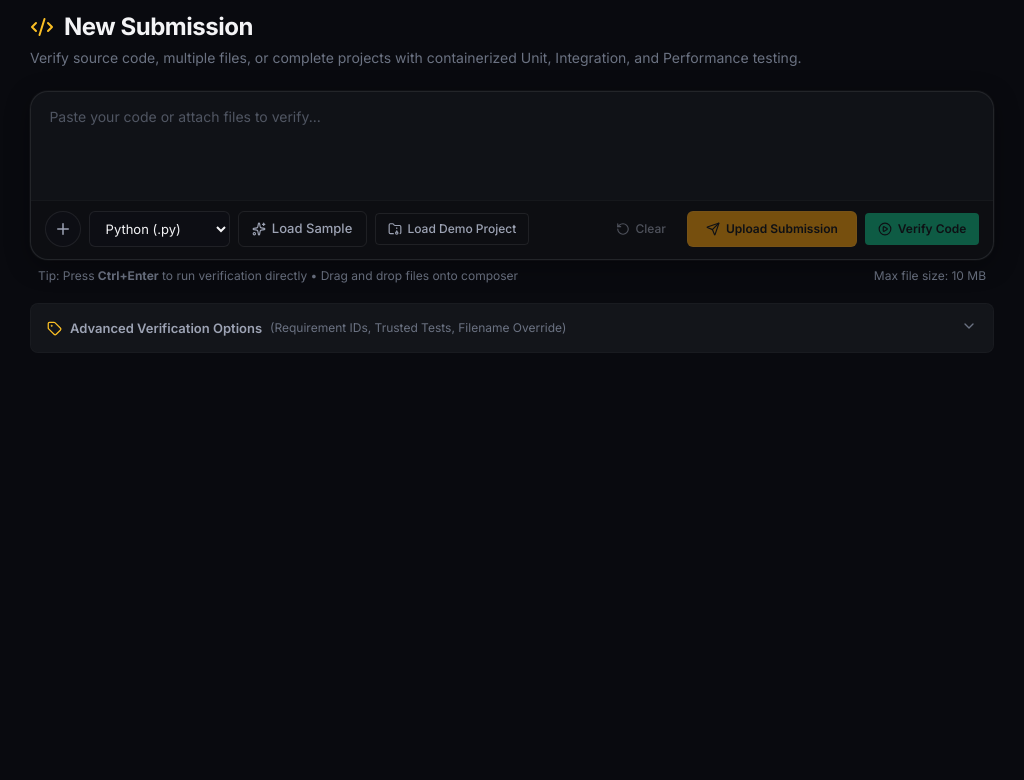
Test: Unified Code Submission Interface (Task 9 Regression Suite) › 10. allows expanding advanced options and providing requirement IDs and test code
Click the text "Advanced Verification Options".
click(166, 328)  # box [70,319,262,338]
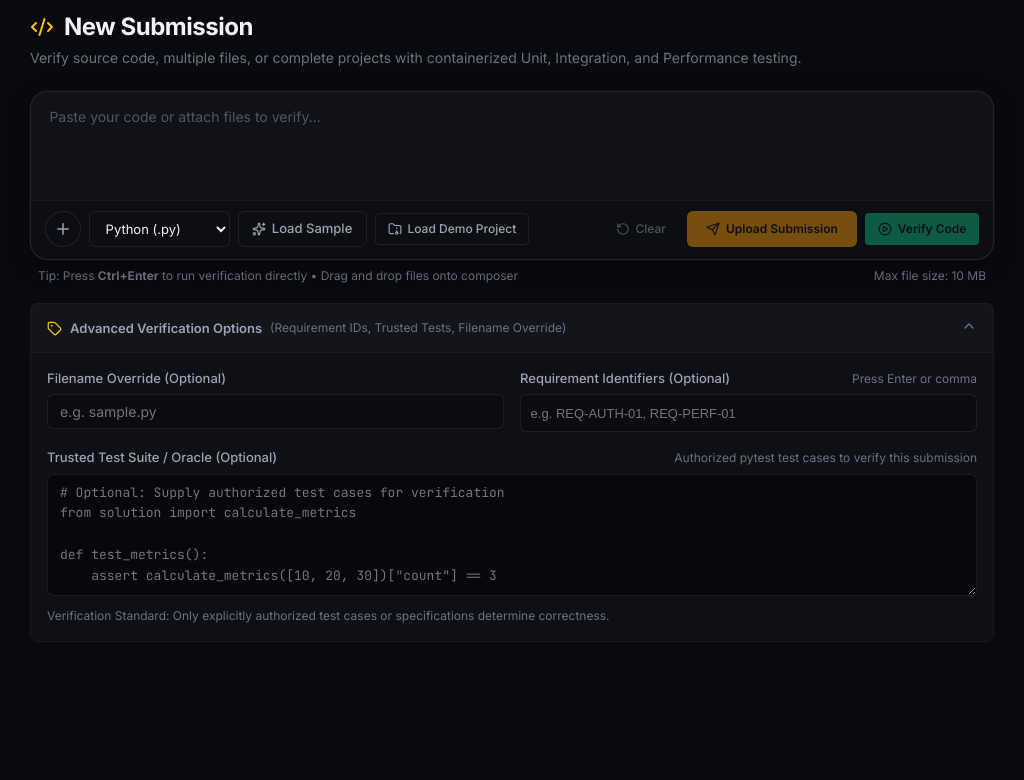
Now the field labelled "Requirement Identifiers (Optional) Press Enter or comma" is shown
Now the text box labelled "Trusted Test Suite" is shown, box [47,474,977,596]
Type "REQ-SEC-01" into the field with placeholder "e.g. REQ-AUTH-01, REQ-PERF-01".
click(748, 414); type("REQ-SEC-01")  # box [531,406,966,421]
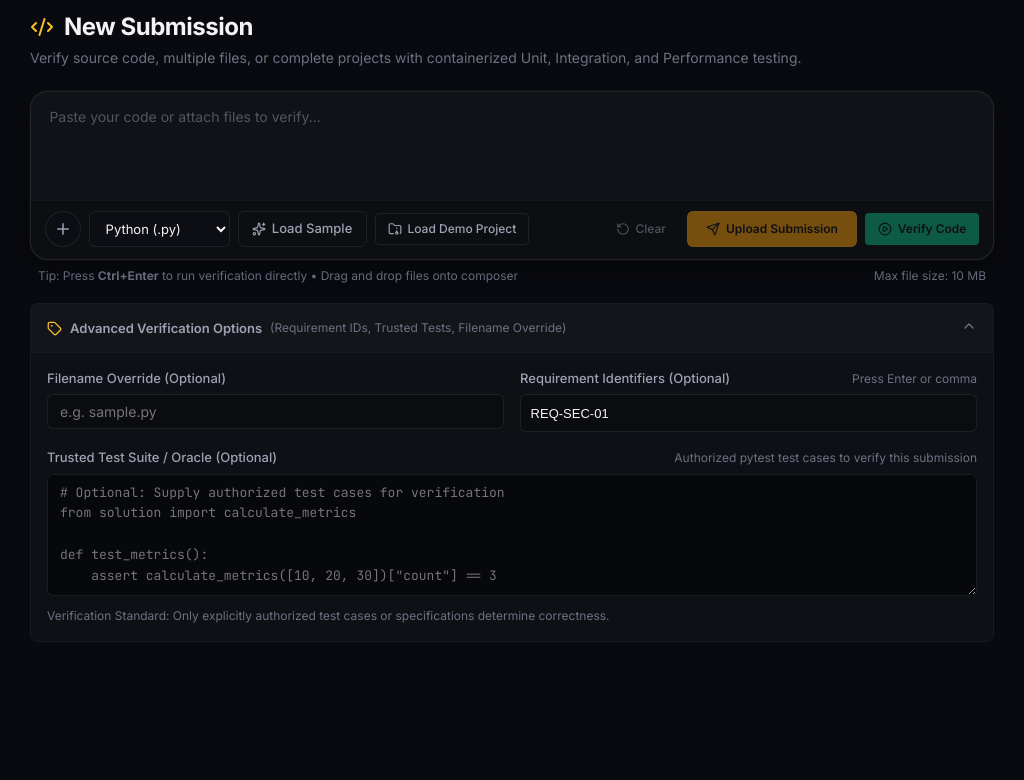
Press Enter in the field with placeholder "e.g. REQ-AUTH-01, REQ-PERF-01", box [531,406,966,421]
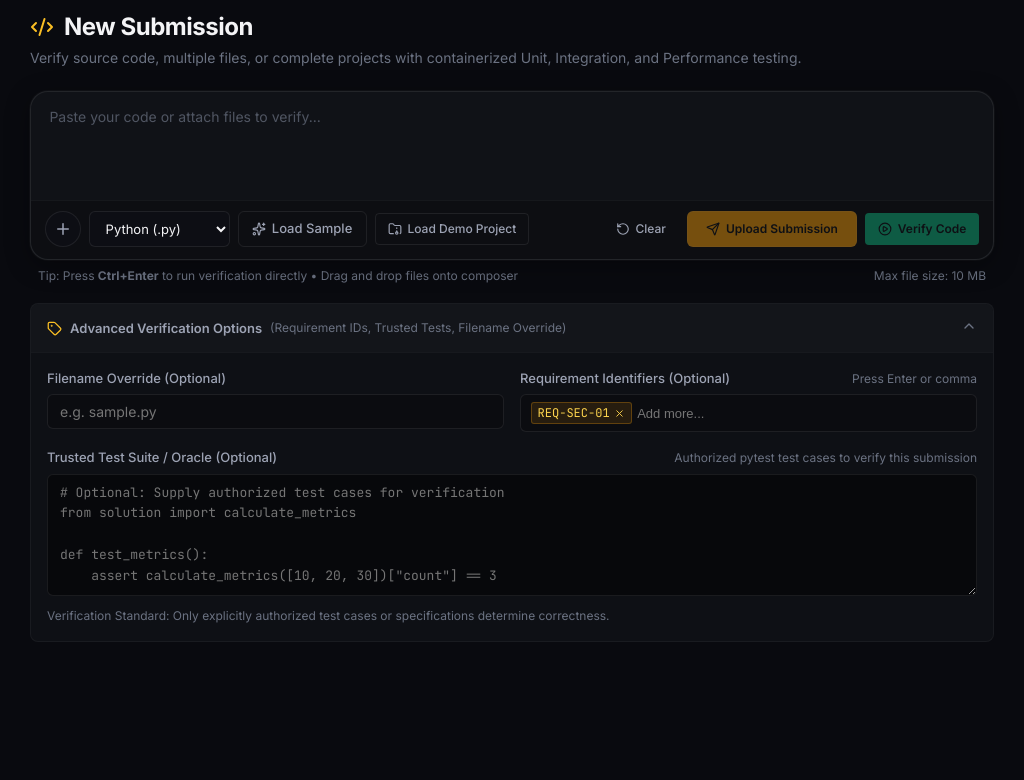
Now the text "REQ-SEC-01" is shown, box [538,404,610,422]
